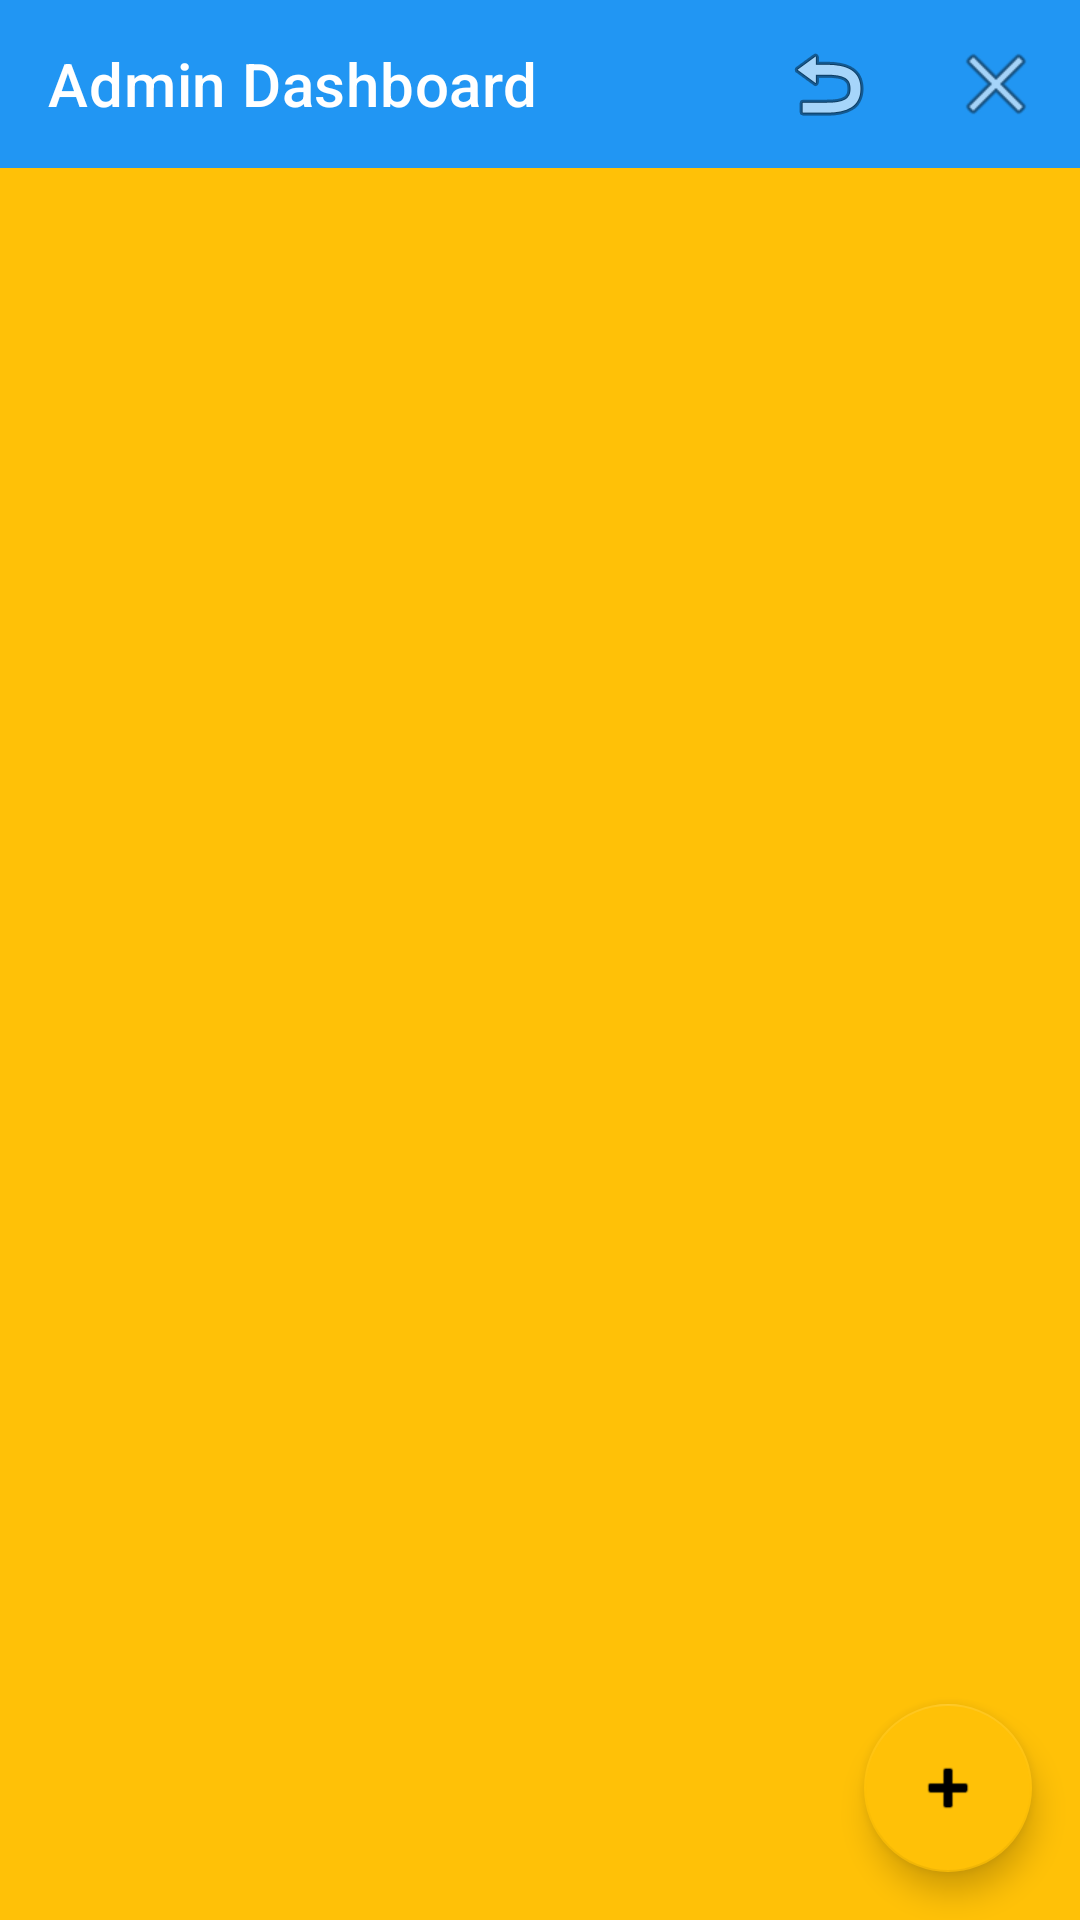

Icon click points for this 1080px x 1920px phone screenshot, format point (x, y):
Add new record: point (950, 1788)
